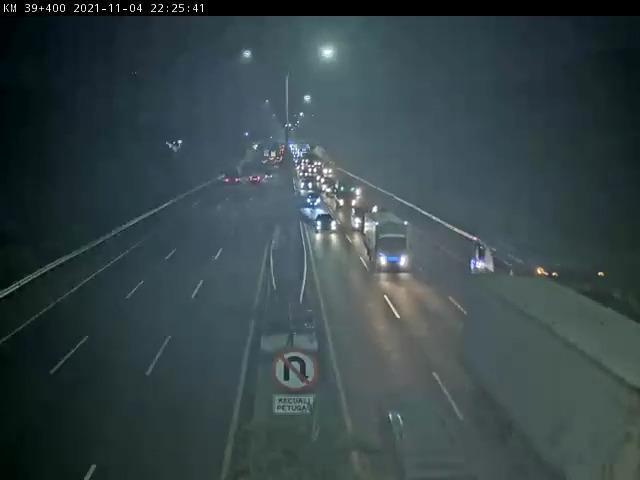bus: (469, 239, 555, 272)
car: (311, 205, 333, 234), (244, 170, 264, 190)
truck: (451, 263, 640, 480), (367, 212, 411, 275)
